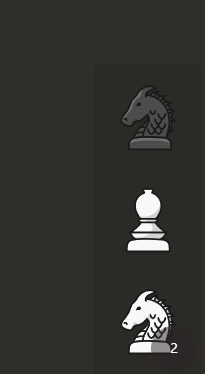H: (109, 279, 194, 365), (116, 79, 181, 158)
W: (109, 177, 185, 259)
